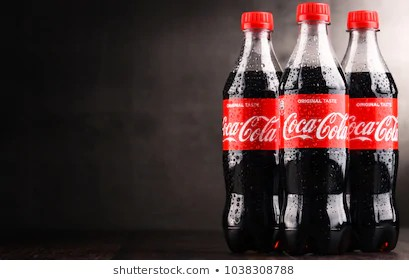coke-bottle-700ml: (281, 1, 350, 259), (340, 7, 401, 256), (220, 9, 281, 255)
